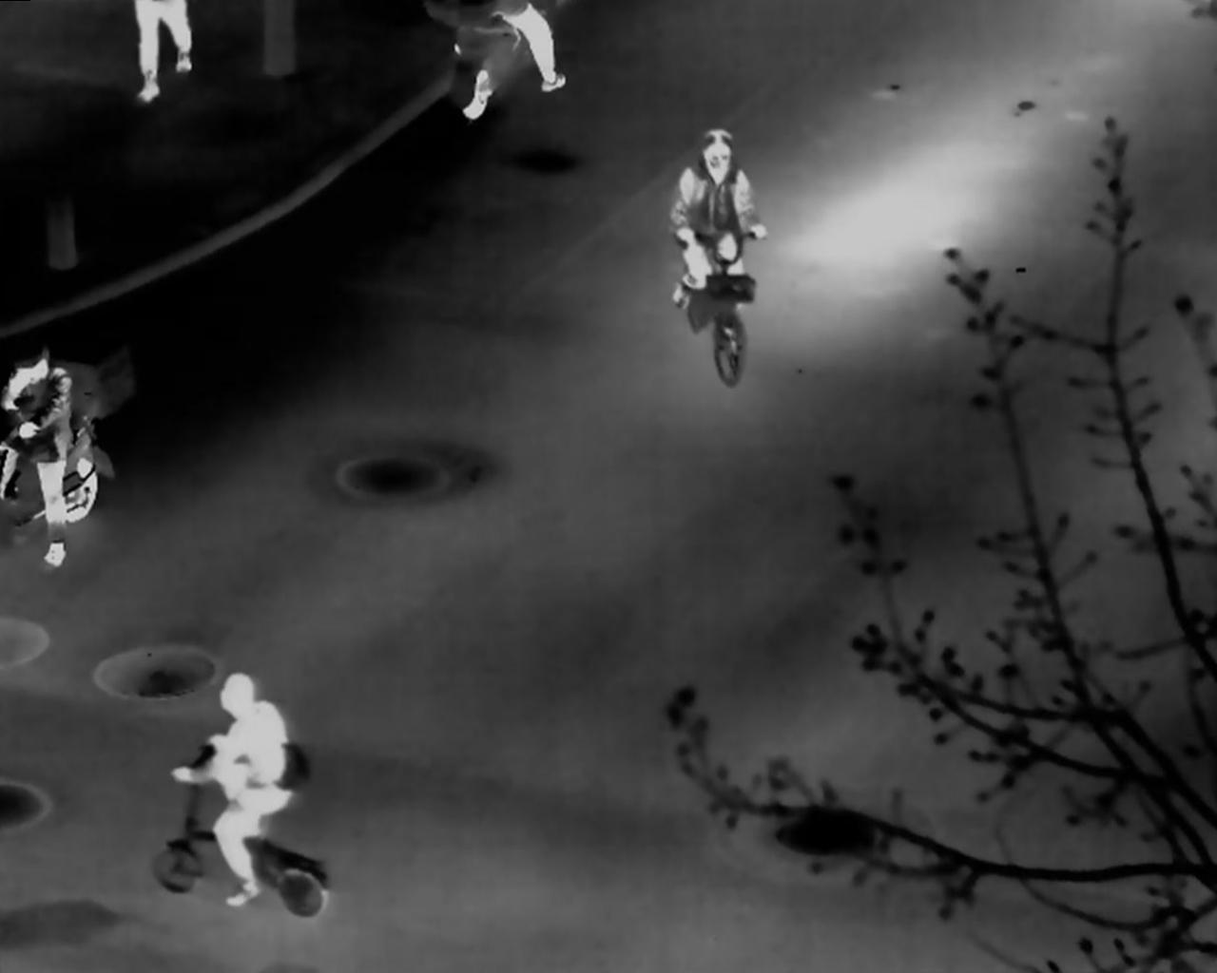person: (169, 671, 302, 907), (671, 127, 769, 308)
